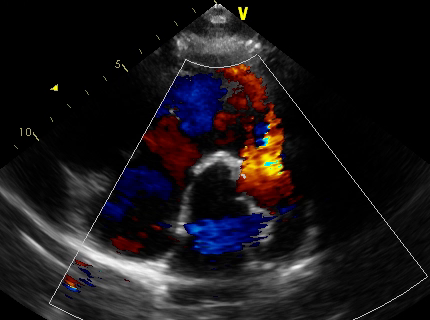PR: (238, 124, 285, 186)
